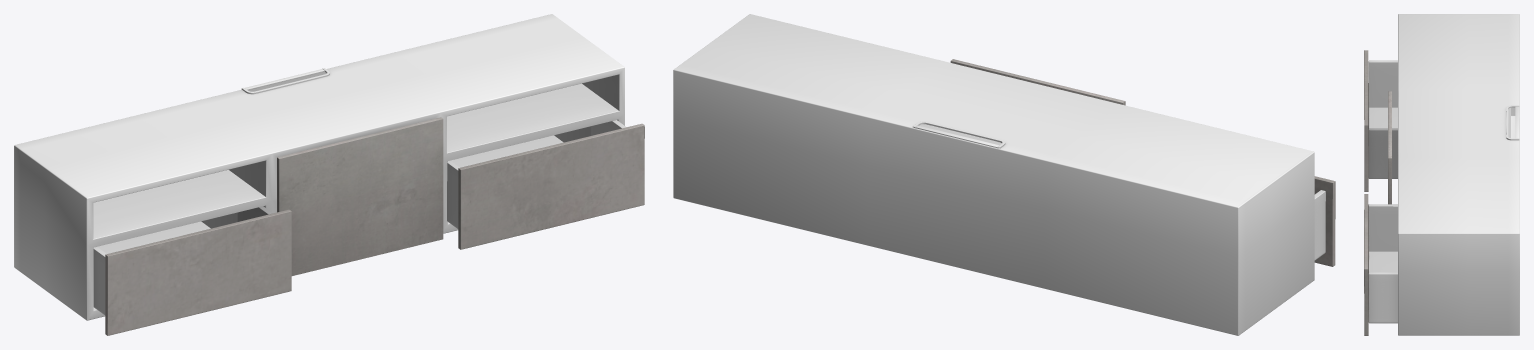
File: white Kallviken light grey.gltf
The picture shows the model from 3 angles, left to right: view 1: azimuth 30°, elevation 25°; view 2: azimuth 150°, elevation 25°; view 3: azimuth 270°, elevation 25°; orthographic projection. The views are drawn at different scales.
Parts seen in each view (by area): view 1: Tv shelf_001; view 2: Tv shelf_001; view 3: Tv shelf_001.
Boxes of the visible parts, x1=… form: Tv shelf_001: x1=14, y1=14, x2=644, y2=335; Tv shelf_001: x1=673, y1=14, x2=1335, y2=335; Tv shelf_001: x1=1364, y1=14, x2=1519, y2=335.
Bounding box in the file's own units: 1.81 × 0.4 × 0.542.
Materials: 1 (1 with a texture image).
